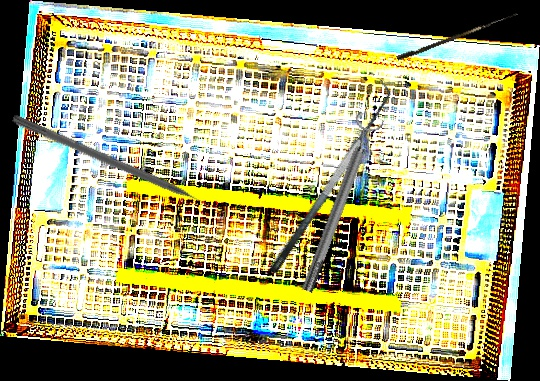Fixation Ring: (291, 111, 387, 296)
Hook Surgical: (396, 8, 518, 63)
Pusher: (10, 113, 223, 217)
Spatula Surgical: (253, 78, 403, 276)
